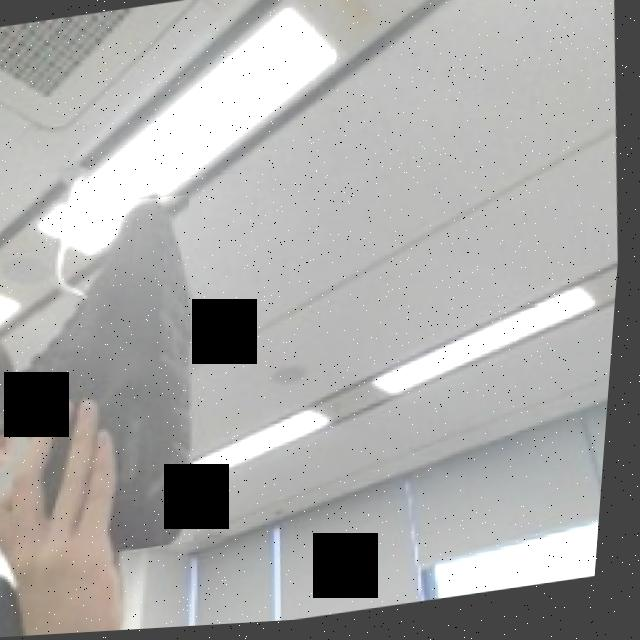shoe: (8, 188, 222, 567)
